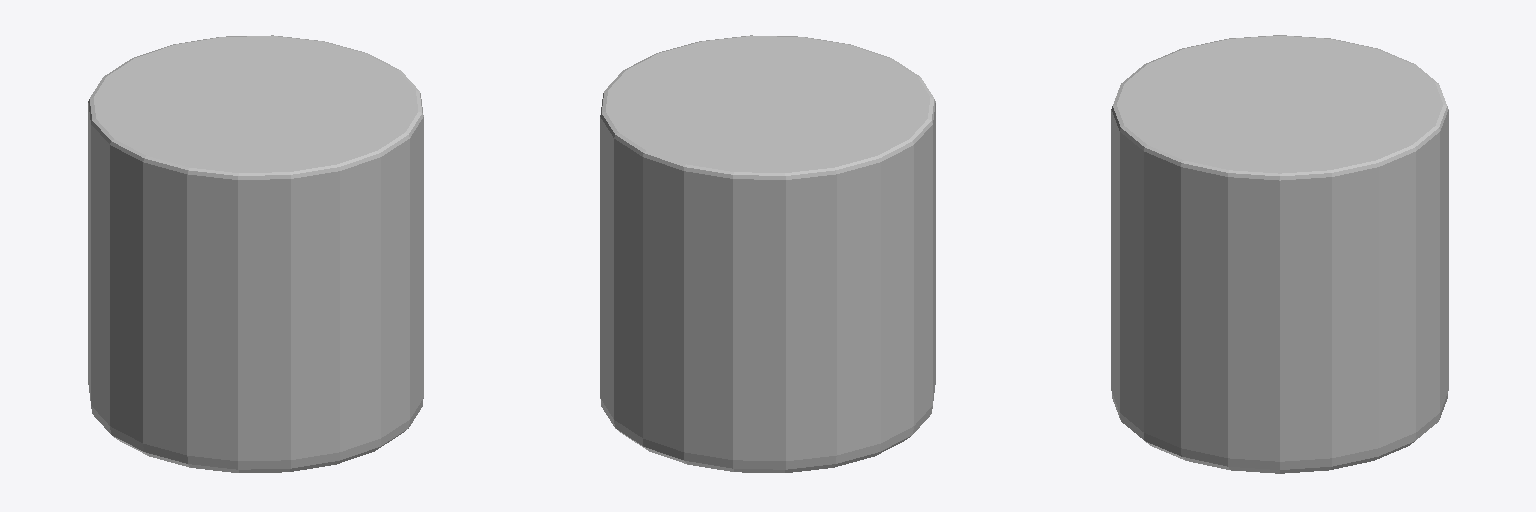
Rendered from body.obj.
3 renders of one model, left to right at view 1: azimuth 30°, elevation 25°; view 2: azimuth 150°, elevation 25°; view 3: azimuth 270°, elevation 25°, orthographic.
Visible parts, largest first — view 1: polySurface19 polySurface18 polySurface4 polySurface2 AndroidRob; view 2: polySurface19 polySurface18 polySurface4 polySurface2 AndroidRob; view 3: polySurface19 polySurface18 polySurface4 polySurface2 AndroidRob.
Part boxes in pixels (left/top/right/bottom): polySurface19 polySurface18 polySurface4 polySurface2 AndroidRob: left=88, top=35, right=423, bottom=472; polySurface19 polySurface18 polySurface4 polySurface2 AndroidRob: left=600, top=35, right=935, bottom=472; polySurface19 polySurface18 polySurface4 polySurface2 AndroidRob: left=1111, top=35, right=1448, bottom=473.
Size of the model in its own units: 2.17 by 2.15 by 2.17.